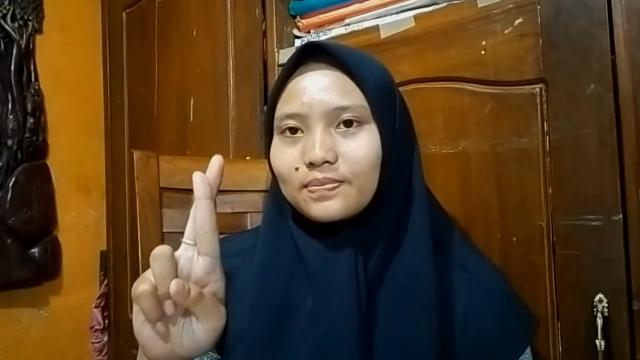R: (121, 148, 236, 360)
